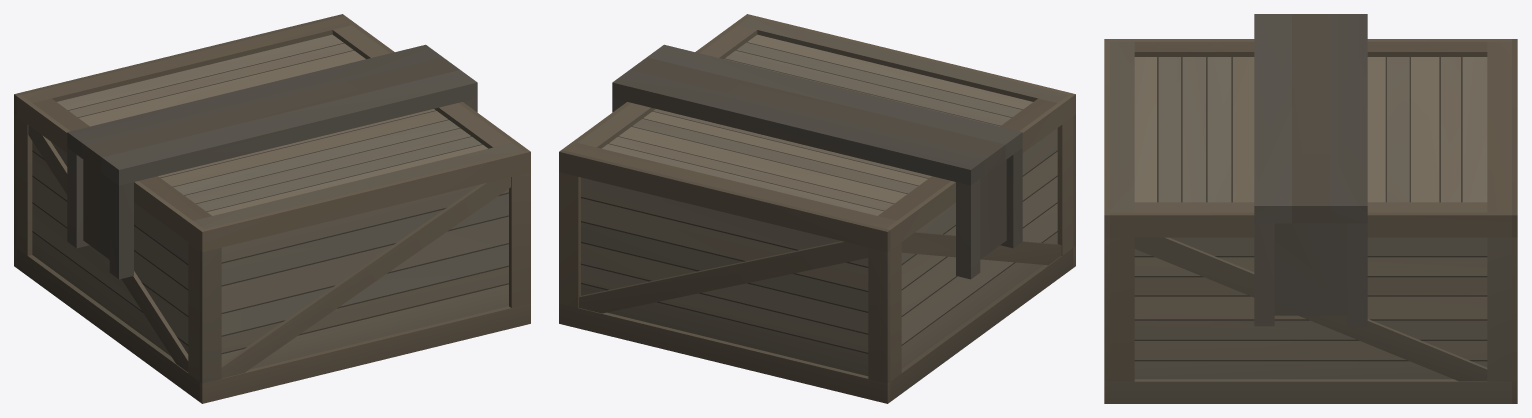
The model's file is crate.factory.weathered.glb.
3 views of the same model, side by side, from view 1: azimuth 30°, elevation 25°; view 2: azimuth 150°, elevation 25°; view 3: azimuth 270°, elevation 25° (orthographic). The views are drawn at different scales.
Parts seen in each view (by area): view 1: crate_factory_weathered; view 2: crate_factory_weathered; view 3: crate_factory_weathered.
Boxes of the visible parts, x1=… form: crate_factory_weathered: x1=14, y1=14, x2=530, y2=403; crate_factory_weathered: x1=559, y1=14, x2=1075, y2=403; crate_factory_weathered: x1=1104, y1=14, x2=1517, y2=403.
Size of what is drawn, in the model's own units: 2.4 by 1.2 by 2.18.
